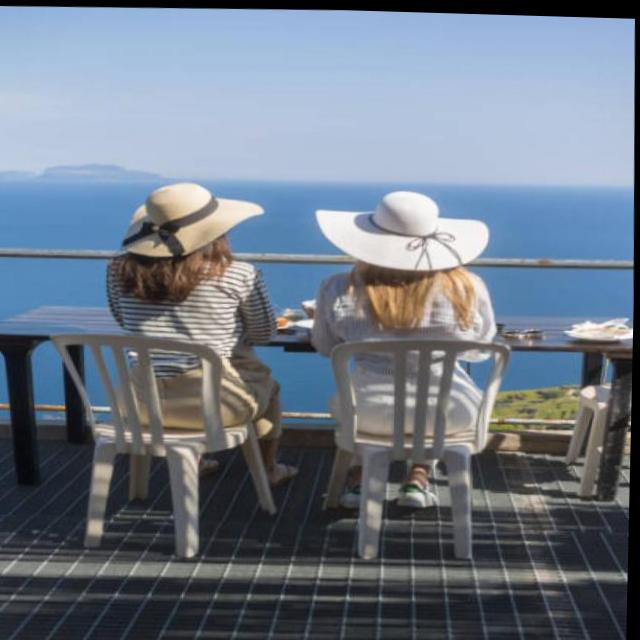no helmet: (299, 163, 508, 305), (80, 155, 288, 291)
